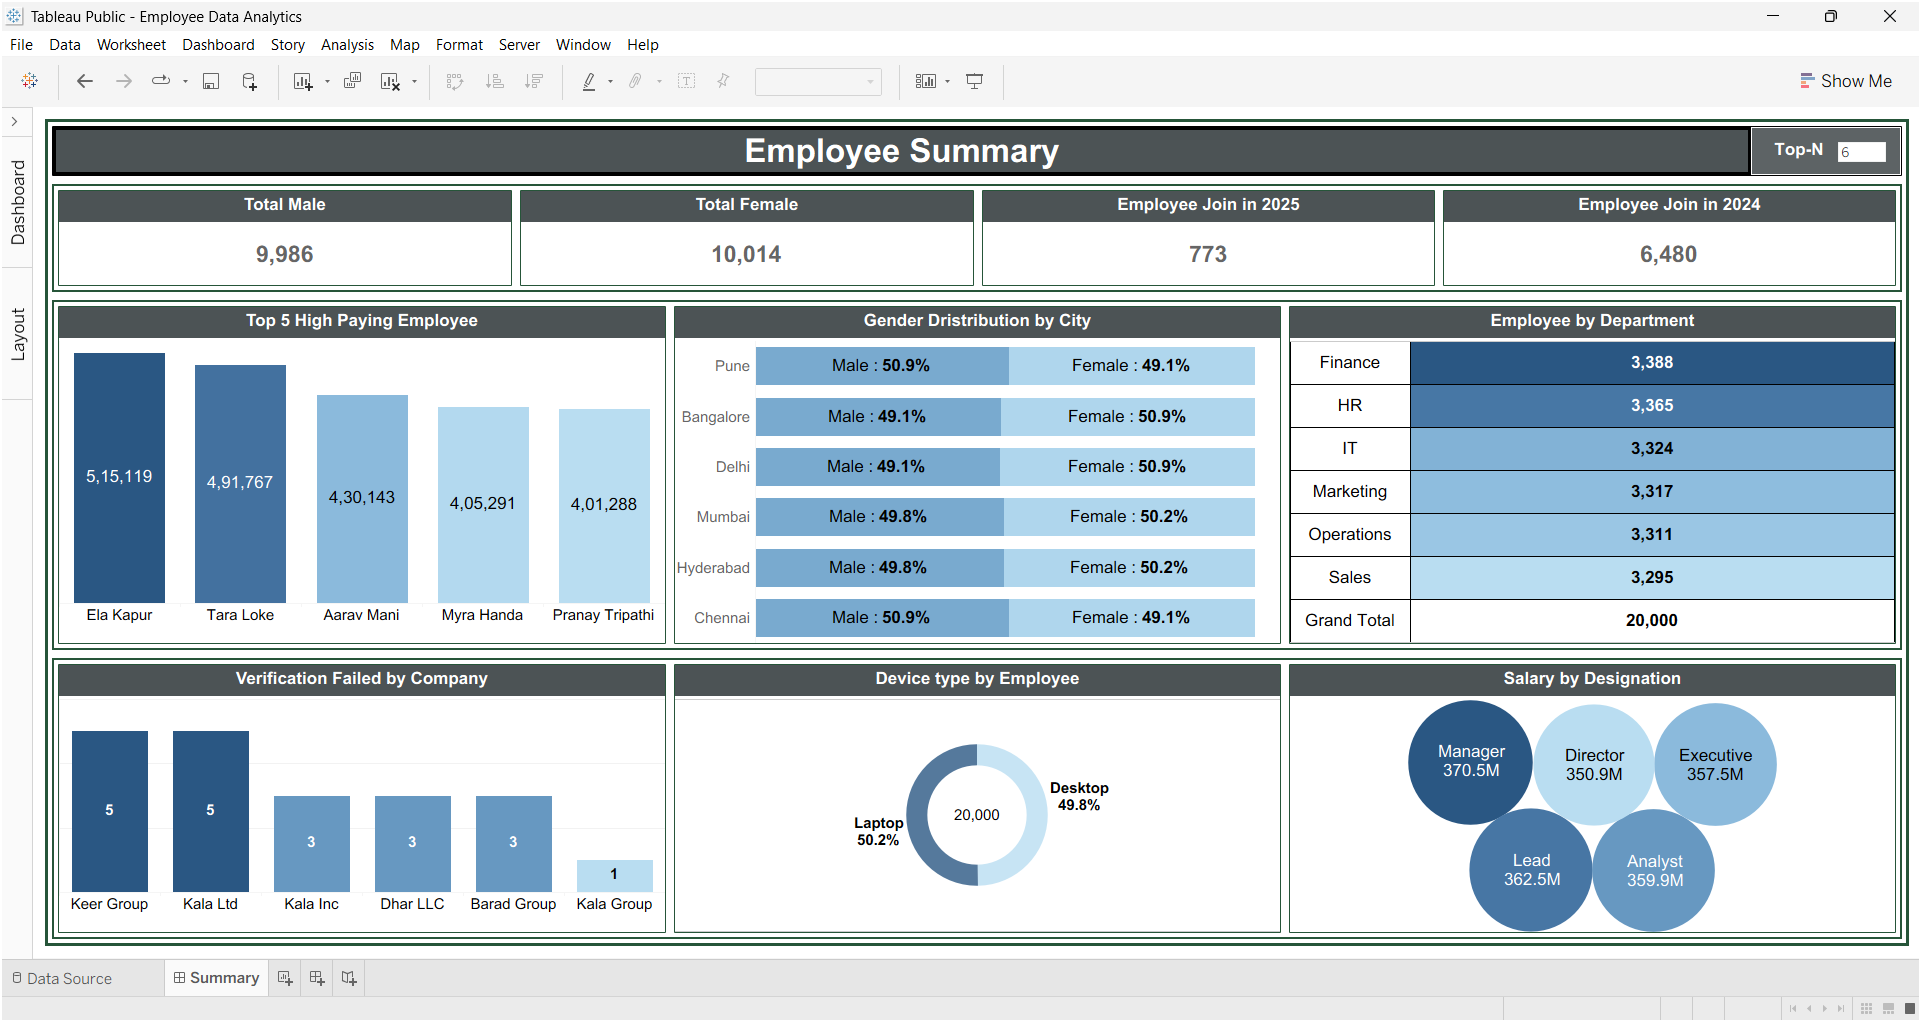

What the dashboard file says about the page in this screenshot:
{"tool":"tableau","page":{"name":"Summary","canvas":[1000,1000],"units":"permille","ordinal":0},"visuals":[{"type":"text","box":[12,23.5,956.9,56.4]},{"type":"parameter","param":"[Parameters].[Parameter 0541289548808195]","box":[968.8,23.5,19.2,56.4]},{"type":"worksheet","title":"Total Male","mark":"Automatic","box":[12.6,92.8,243.9,122.2]},{"type":"worksheet","title":"Total Female","mark":"Automatic","box":[256.4,92.8,243.9,122.2]},{"type":"worksheet","title":"Employee Join in 2025","mark":"Automatic","box":[500.3,92.8,243.9,122.2]},{"type":"worksheet","title":"Employee Join in 2024","mark":"Automatic","box":[744.2,92.8,243.3,122.2]},{"type":"worksheet","title":"Top 5 High Paying Employee","mark":"Automatic","rows":["Salary"],"cols":["Employee Name"],"box":[12.6,229.1,325.4,406.6]},{"type":"worksheet","title":"Gender Dristribution by City","mark":"Automatic","rows":["Office Location"],"cols":["Employee_ID"],"box":[337.9,229.1,324.7,406.6]},{"type":"worksheet","title":"Employee by Department","mark":"Square","rows":["Department"],"box":[662.7,229.1,324.8,406.6]},{"type":"worksheet","title":"Verification Failed by Company","mark":"Automatic","rows":["Employee_ID (Background Verification)"],"cols":["Previous Company"],"box":[12.6,649.8,325.4,325.5]},{"type":"worksheet","title":"Device type by Employee","mark":"Pie","rows":["Calculation_0541289557544966","Calculation_0541289557544966"],"box":[337.9,649.8,324.7,325.5]},{"type":"worksheet","title":"Salary by Designation","mark":"Circle","box":[662.7,649.8,324.8,325.5]}]}

Visuals, with their boxes on the dashboard's canvas, which has no fixed pixel size, in thousandths of its width and height (x1, y1, x2, y2). These are canvas units, not pixel positions in the 1921x1022 screenshot, which may show the page scaled, cropped or inside an application window:
text: crop(12, 24, 969, 80)
parameter: crop(969, 24, 988, 80)
"Total Male" worksheet: crop(13, 93, 256, 215)
"Total Female" worksheet: crop(256, 93, 500, 215)
"Employee Join in 2025" worksheet: crop(500, 93, 744, 215)
"Employee Join in 2024" worksheet: crop(744, 93, 988, 215)
"Top 5 High Paying Employee" worksheet: crop(13, 229, 338, 636)
"Gender Dristribution by City" worksheet: crop(338, 229, 663, 636)
"Employee by Department" worksheet (Square marks): crop(663, 229, 988, 636)
"Verification Failed by Company" worksheet: crop(13, 650, 338, 975)
"Device type by Employee" worksheet (Pie marks): crop(338, 650, 663, 975)
"Salary by Designation" worksheet (Circle marks): crop(663, 650, 988, 975)
